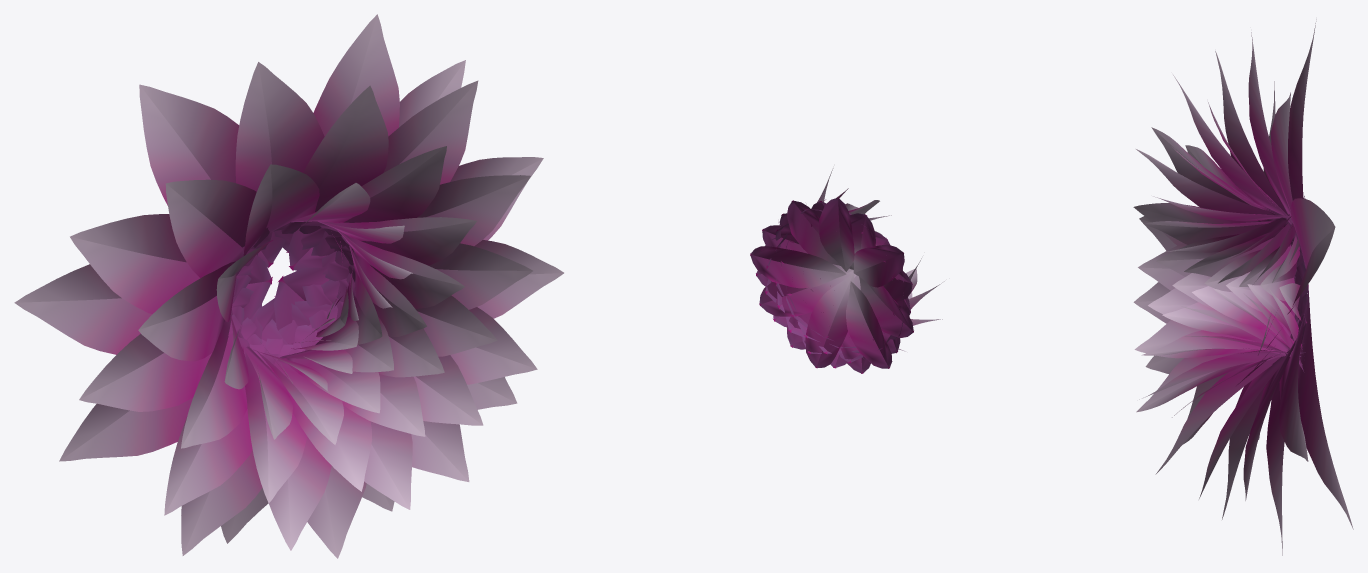
The model's file is rose.glb.
3 renders of one model, left to right at view 1: azimuth 30°, elevation 25°; view 2: azimuth 150°, elevation 25°; view 3: azimuth 270°, elevation 25°, orthographic. The views are drawn at different scales.
Parts seen in each view (by area): view 1: geo1; view 2: geo1; view 3: geo1.
Boxes of the visible parts, x1,y1,x2,y2 form: geo1: (14, 14, 563, 558); geo1: (750, 168, 944, 373); geo1: (1133, 19, 1353, 555).
Size of the model in its own units: 10.53 by 10.48 by 4.38.
